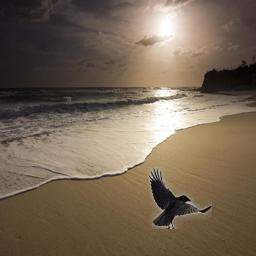Crow: (148, 167, 212, 229)
